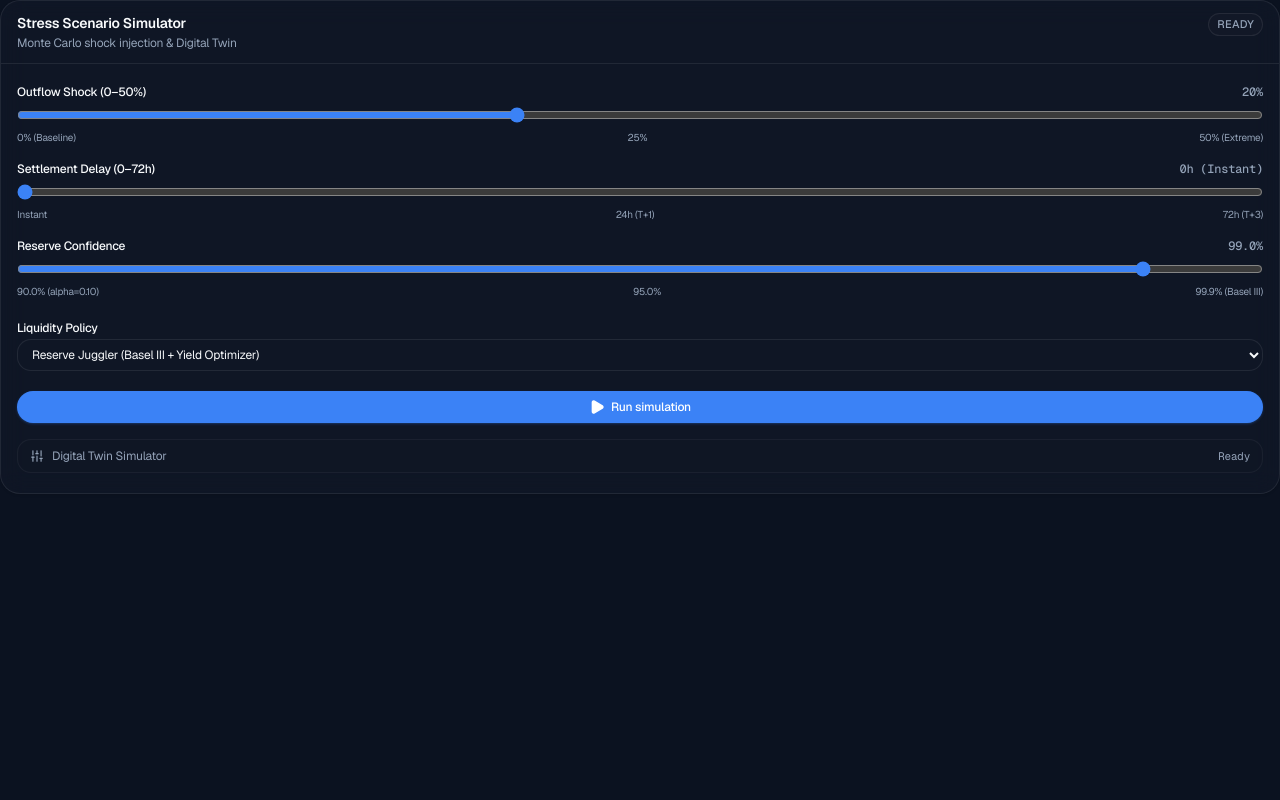
Scenario: StressSimulatorPanel (Phase 18) › executes simulation when Run button is clicked and renders results
Click the button with test id "run-simulation-button" at (640, 407), box left=17, top=391, right=1263, bottom=423
(page scrolled)
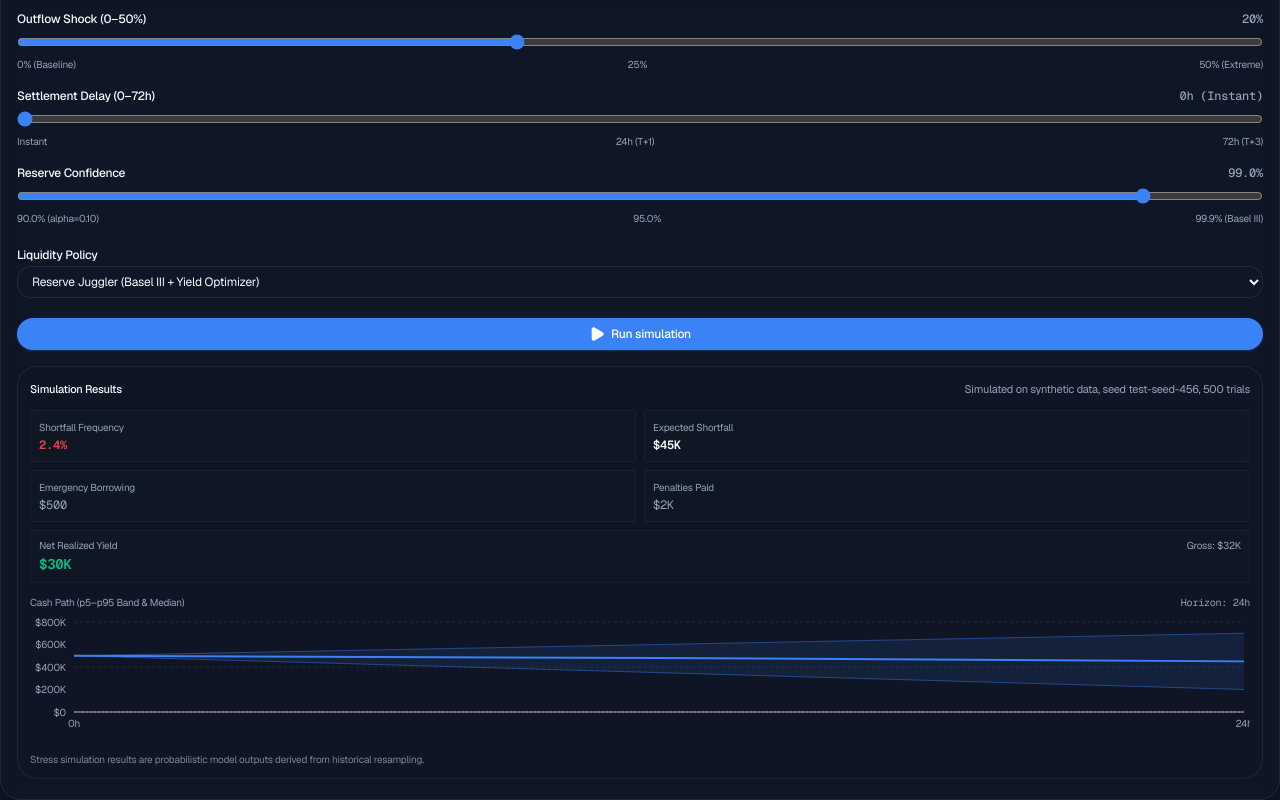
Expected: the element with test id "simulation-results" is shown, left=17, top=366, right=1263, bottom=779
Expected: the text with test id "sim-shortfall-freq" reads "2.4%", left=39, top=436, right=67, bottom=452
Expected: the text "Simulated on synthetic data, seed test-seed-456, 500 trials" is shown, left=964, top=381, right=1250, bottom=398
